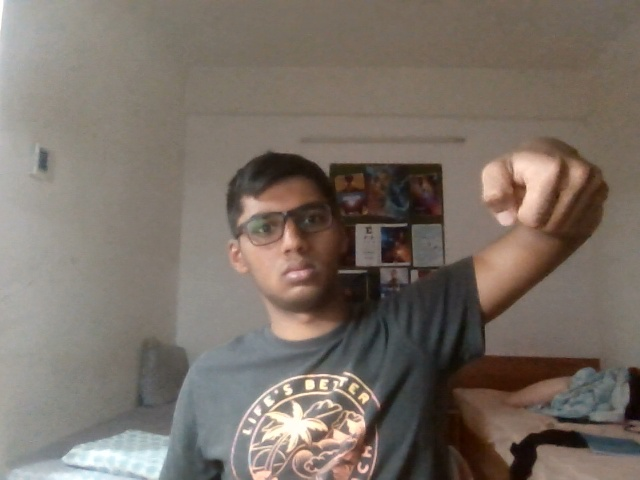yes: (478, 146, 625, 256)
